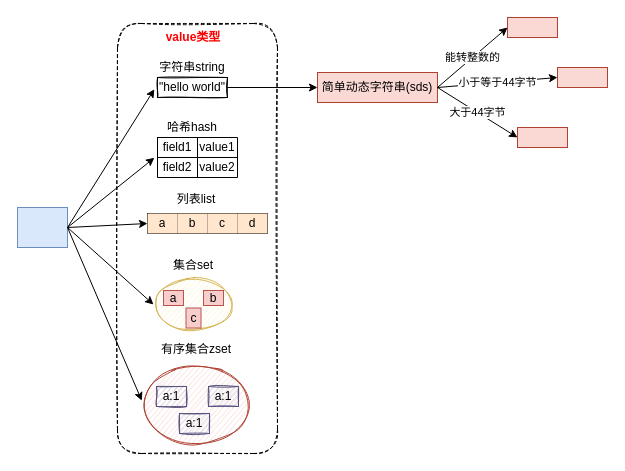
The diagram is 625 pixels wide and 471 high, and some of its shapes have lost their labels. The shapes that lost their labels are listed below. From the top down, each one's centre as x and y in pixels, then its label:
point 532,27: int
point 582,77: embstr
point 542,137: raw
point 42,227: key
